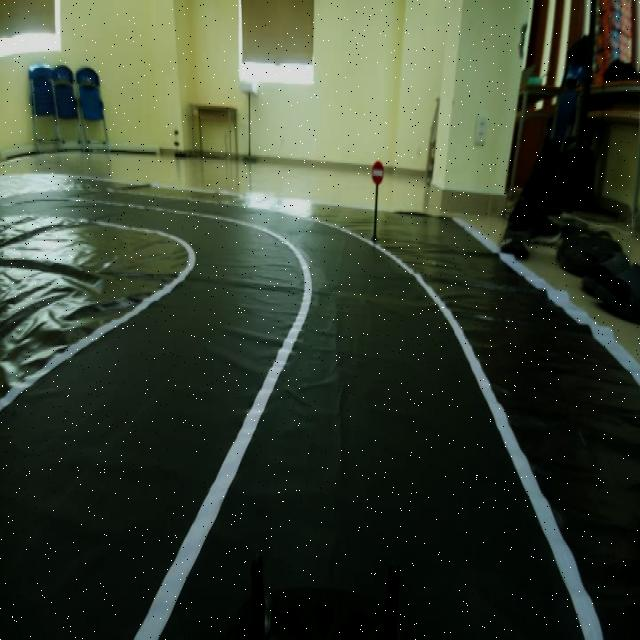no_entry: (366, 156, 392, 191)
